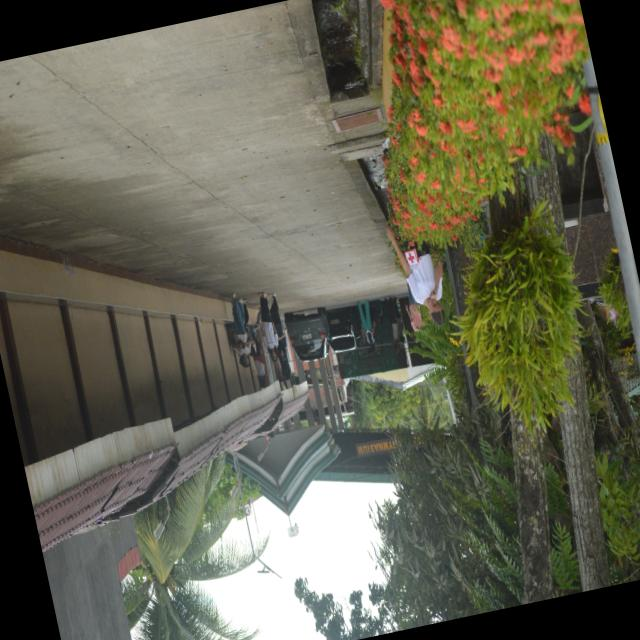person: (385, 225, 444, 324), (231, 292, 250, 366), (258, 292, 277, 361), (269, 293, 286, 359), (356, 300, 374, 350), (405, 285, 421, 330)
